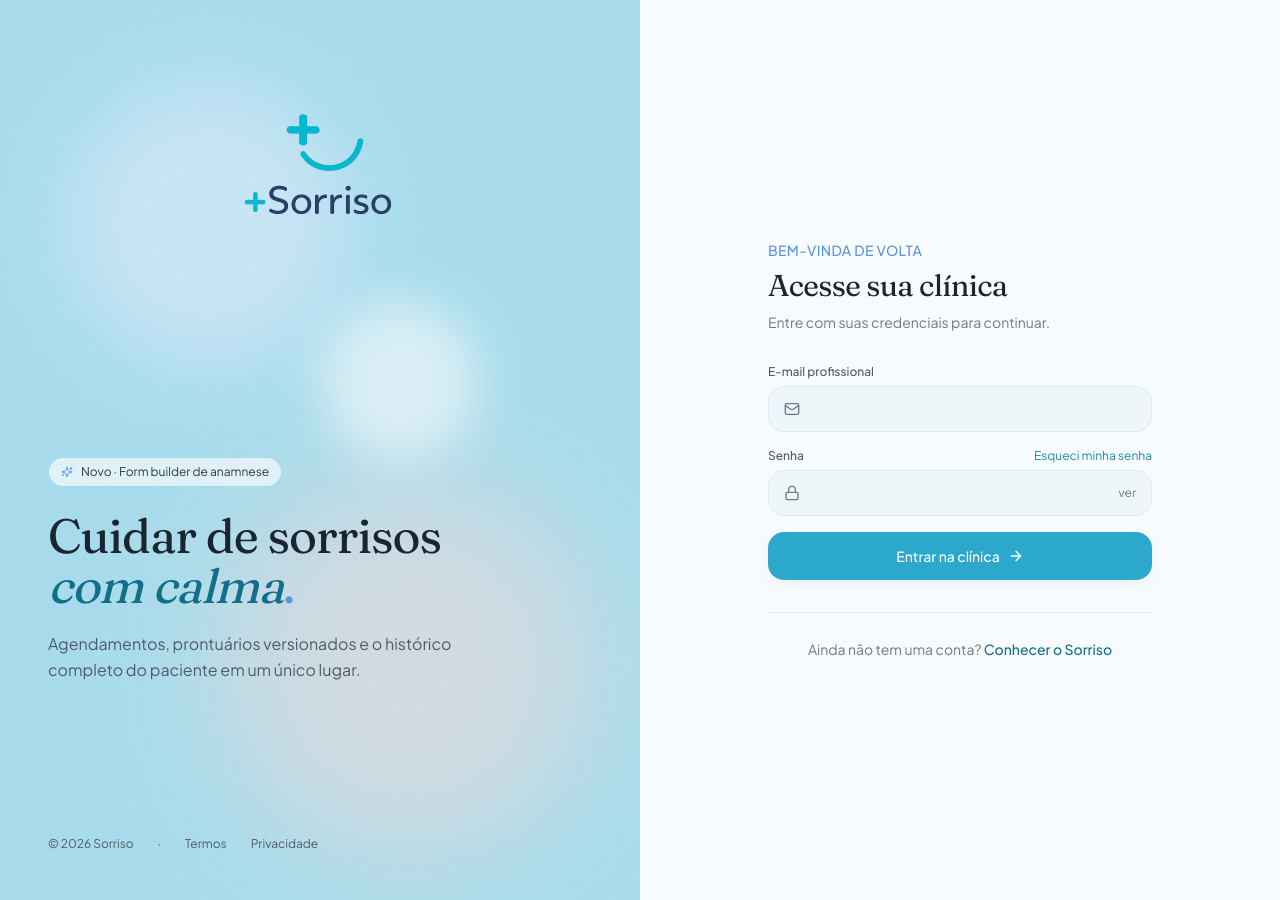
Scenario: SDD Phase 3 / Slice 1 — Auth flow › shows styled error alert when backend returns 401
The width and height of the screenshot is (1280, 900).
Type "wrong@x.com" into the field labelled "E-mail profissional" at (960, 408), box [768,386,1152,432]
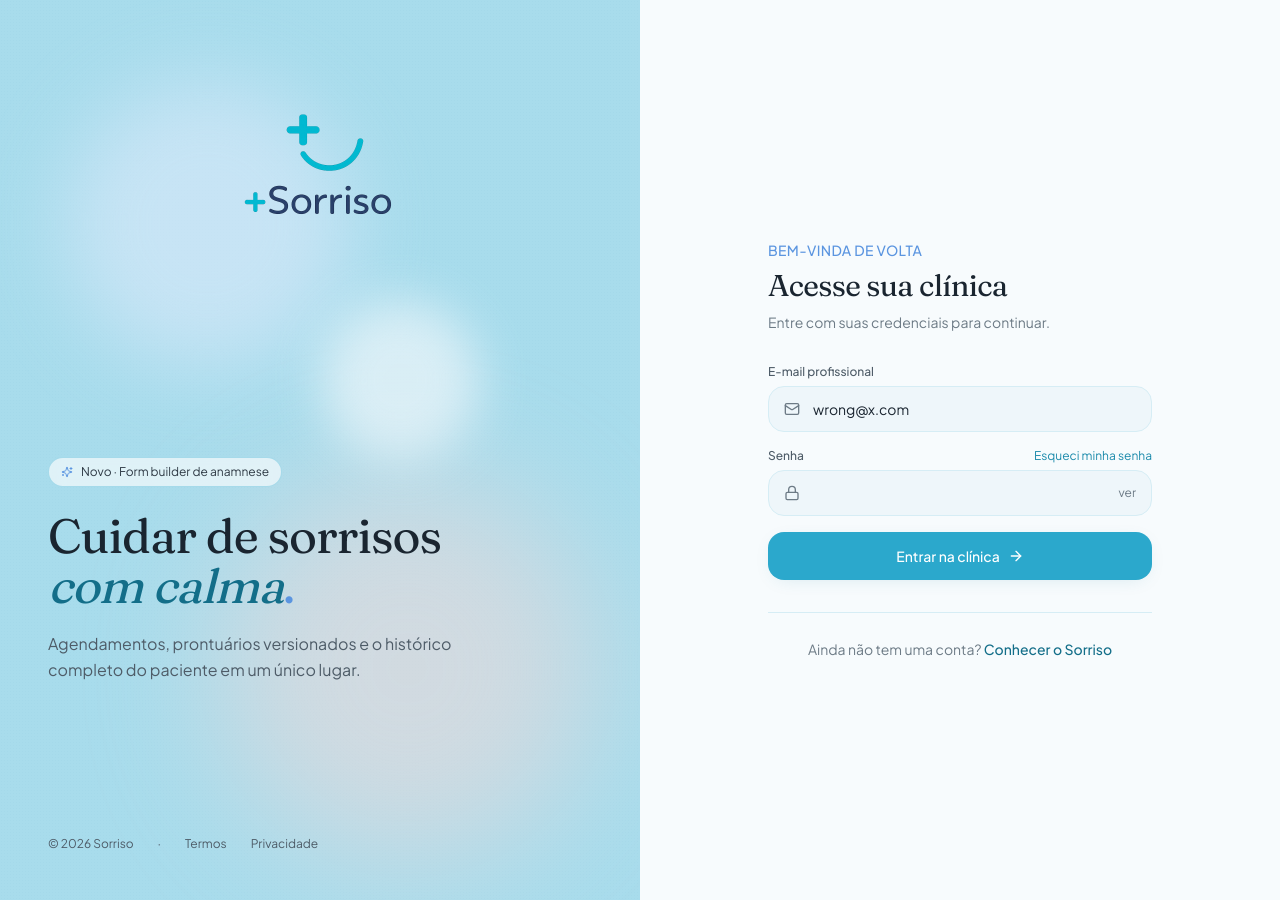
Type "bad" into the password field labelled "Senha" at (960, 492), box [768,470,1152,516]
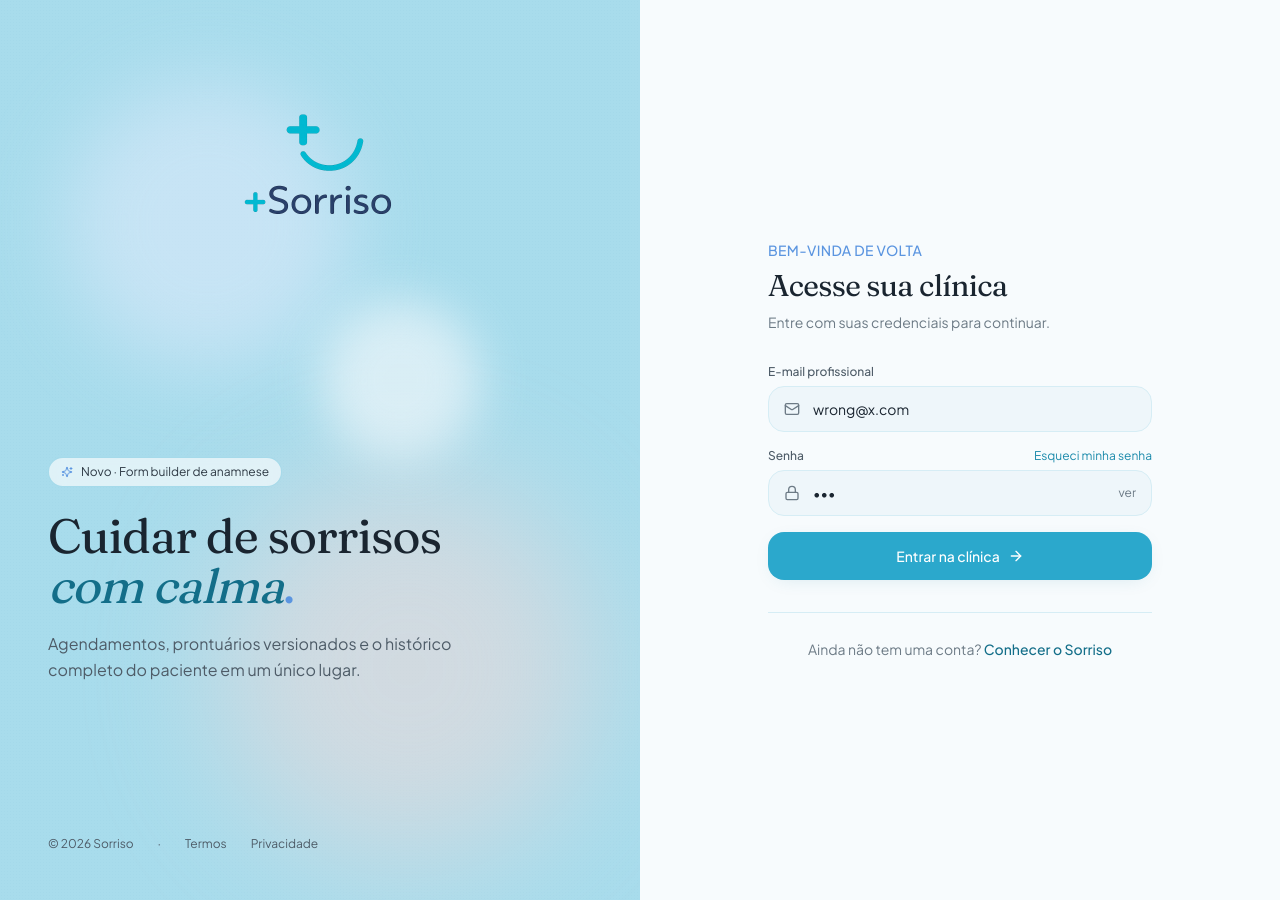
Click the button "Entrar na clínica" at (960, 556), box [768,532,1152,580]
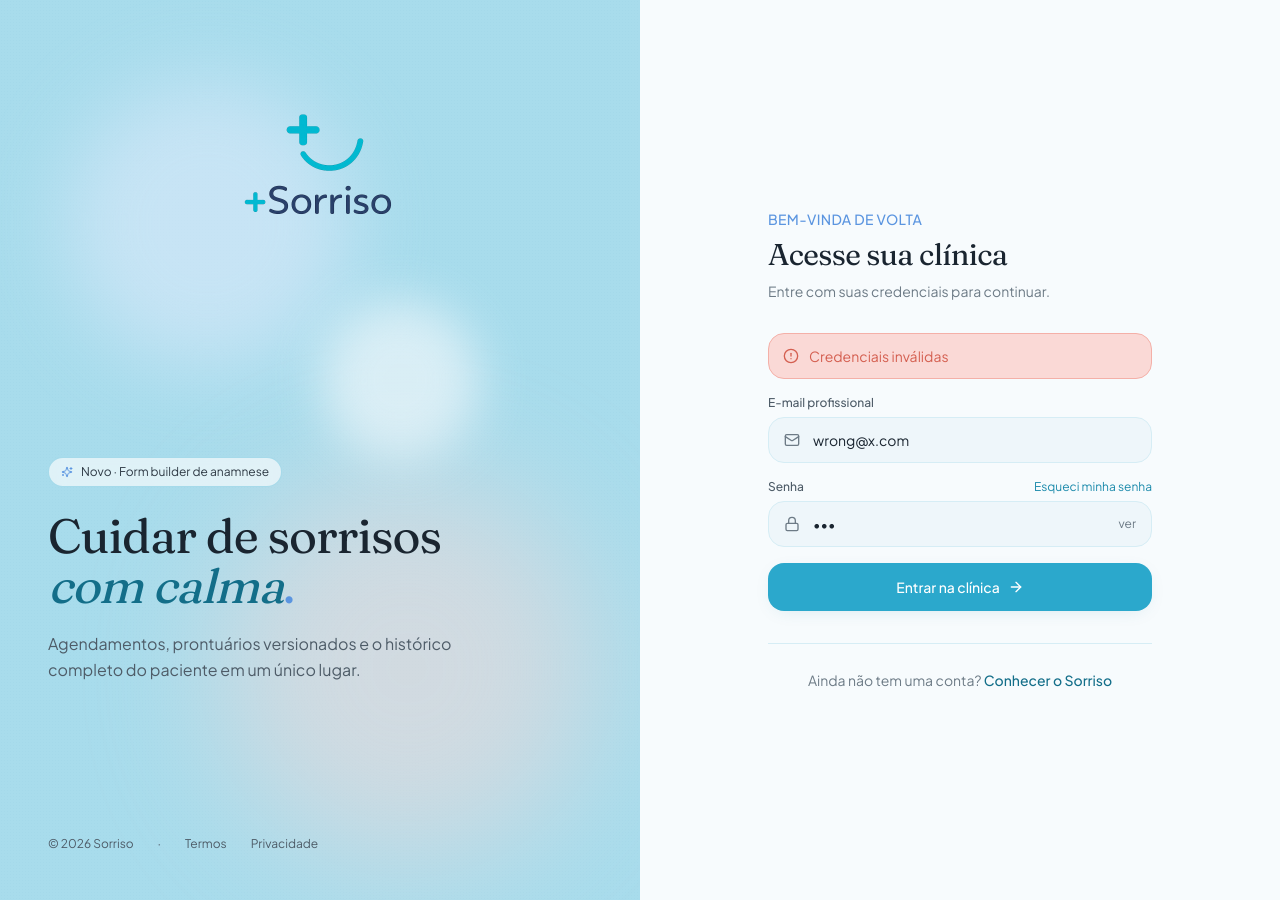
Expected: the message reads "Credenciais inválidas", [809,346,948,364]
